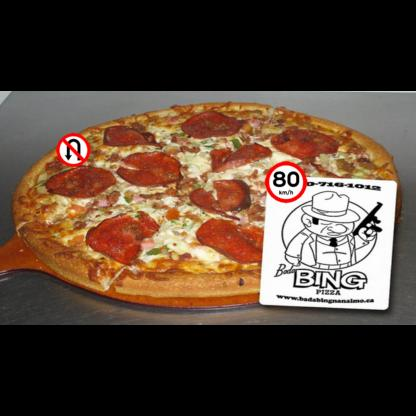R-19: (265, 161, 307, 203)
R-5a: (56, 133, 90, 167)
